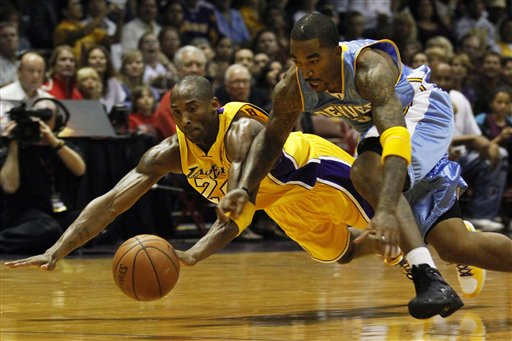10+: (3, 5, 510, 309)
down: (14, 67, 488, 304)
